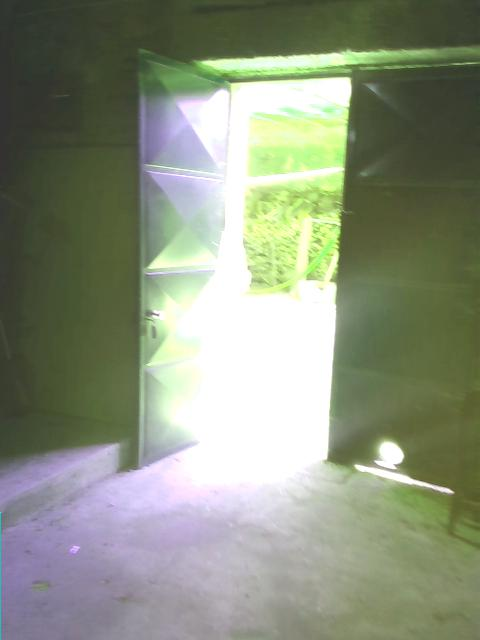open_door: (193, 72, 352, 461)
